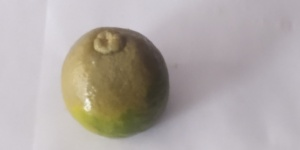BAD: (64, 29, 168, 138)
